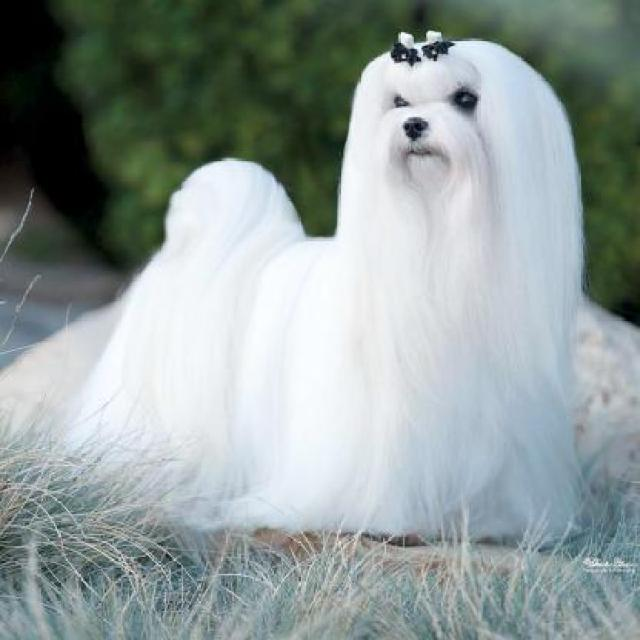Dog: (60, 31, 595, 554)
